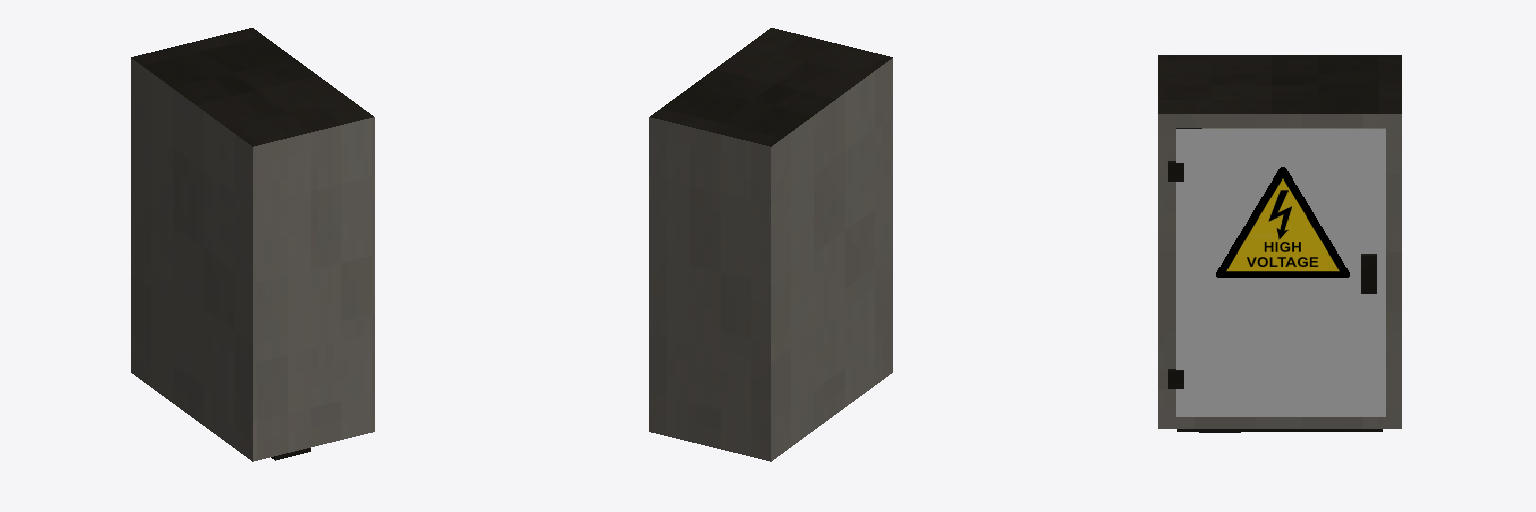
3 renders of one model, left to right at view 1: azimuth 30°, elevation 25°; view 2: azimuth 150°, elevation 25°; view 3: azimuth 270°, elevation 25°, orthographic.
Visible parts, largest first — view 1: body; view 2: body; view 3: door, body, warning_sign, bottom.
Boxes of the visible parts, x1,y1,x2,y2 form: body: [131, 28, 374, 461]; body: [649, 28, 892, 461]; door: [1168, 128, 1385, 416]; body: [1158, 55, 1401, 428]; warning_sign: [1216, 167, 1349, 277]; bottom: [1177, 429, 1382, 431].
Bounding box in the file's own units: 0.3102 × 0.7814 × 0.5099.
Materials: 3 (2 with a texture image).